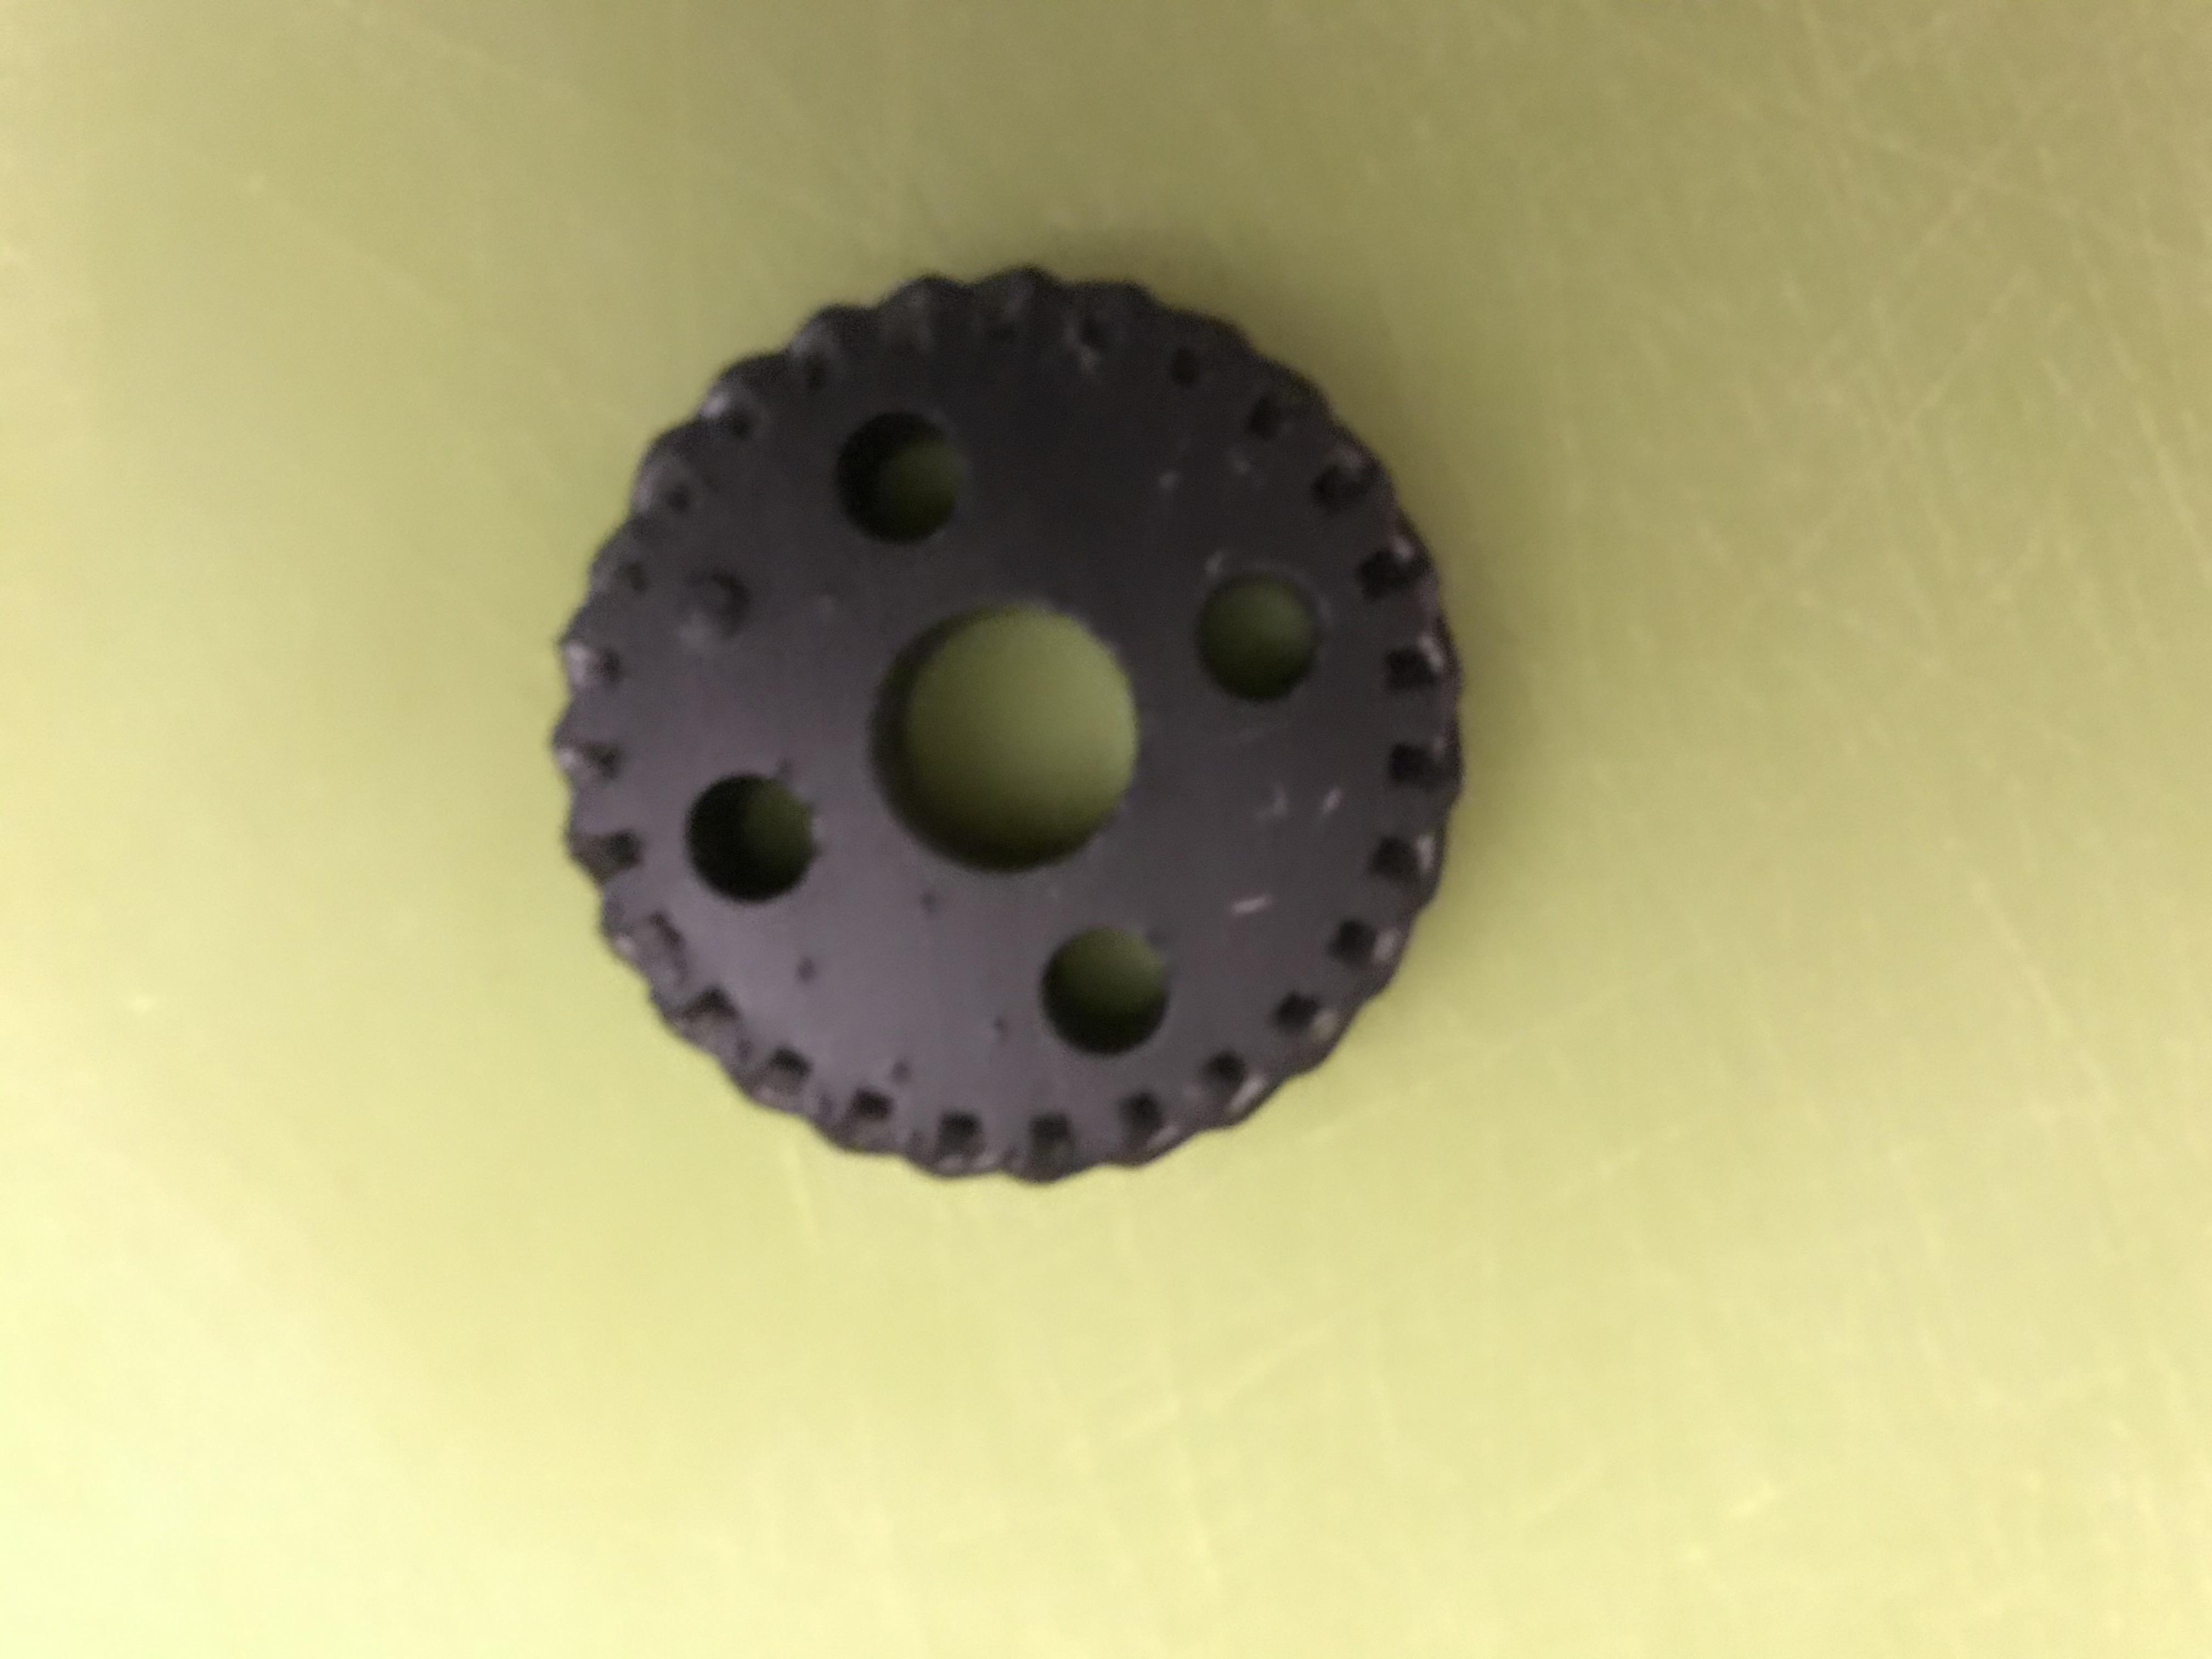Wheel: (545, 258, 1468, 1206)
